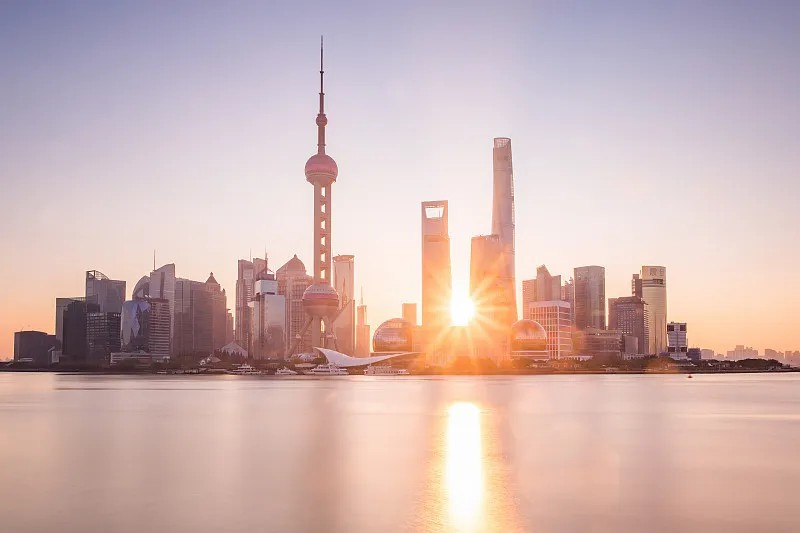Oriental: (288, 36, 340, 355)
